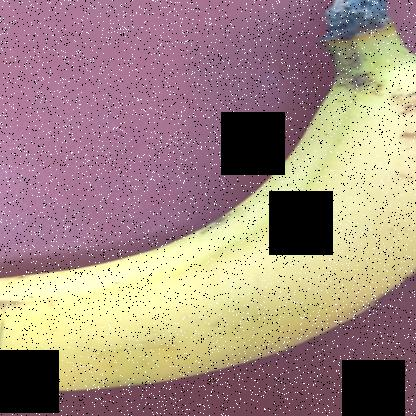freshripe: (1, 49, 415, 415)
